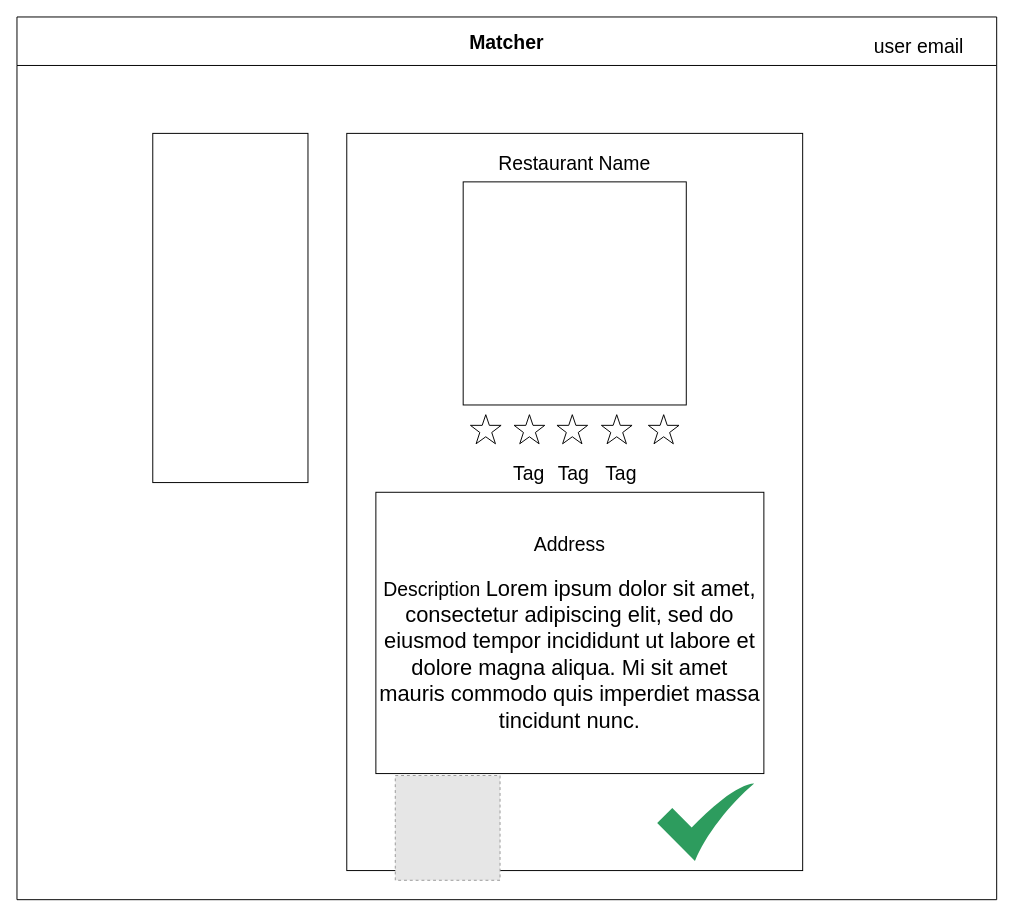
Image size: 1014x917. Some labels were removed from this diagram. Grey dashed boxes stand in for pictures. Each missing label, with the centre of its shape:
"Active Filters Filter Filter Filter" belongs at (230,307).
"IMG" belongs at (574,293).
